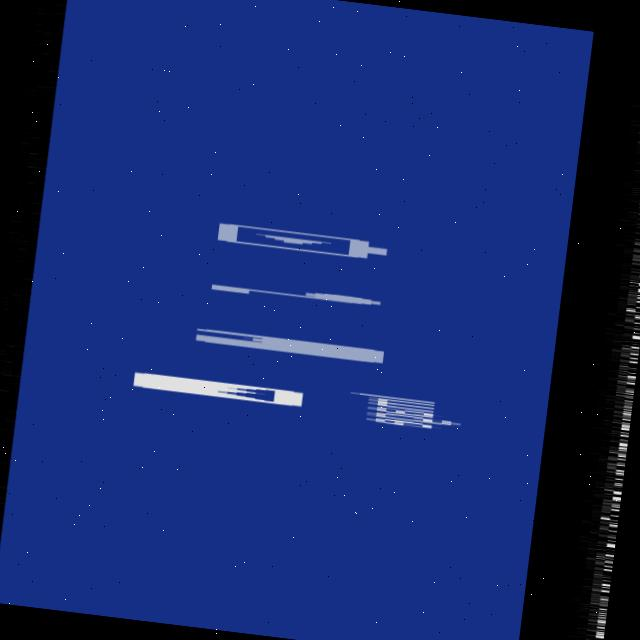QLabel: (343, 388, 464, 433)
VBottomNavigation: (0, 0, 593, 640)
VIcon: (187, 326, 399, 368), (204, 219, 396, 264), (198, 275, 398, 313), (127, 370, 316, 409)
